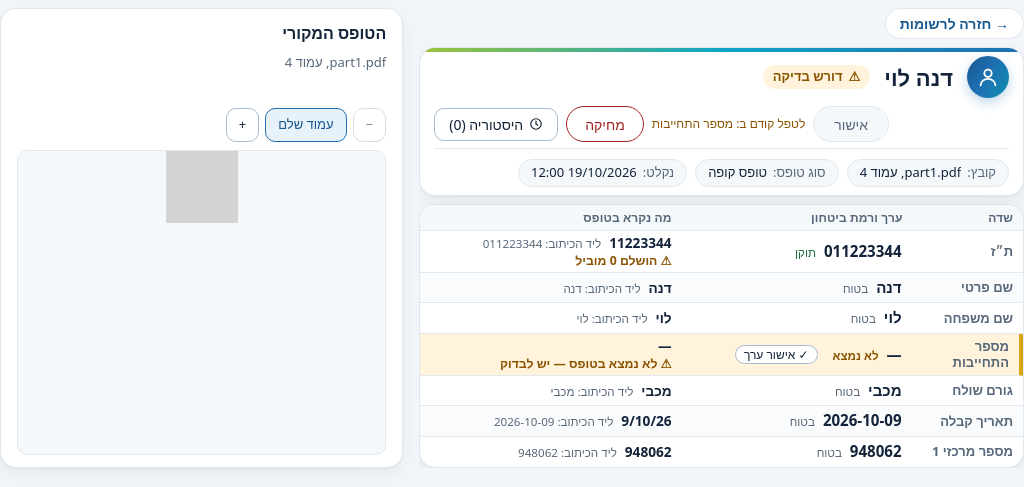
Test: RecordPage › a flagged field is confirmed here too, and the answer replaces the record
This screenshot has width=1024, height=487.
Expected: the heading "דנה לוי" is shown, x1=884 y1=64 x2=953 y2=90
Click the button with aria-label "אישור ערך: מספר התחייבות" at (776, 354), box x1=735 y1=345 x2=818 y2=364
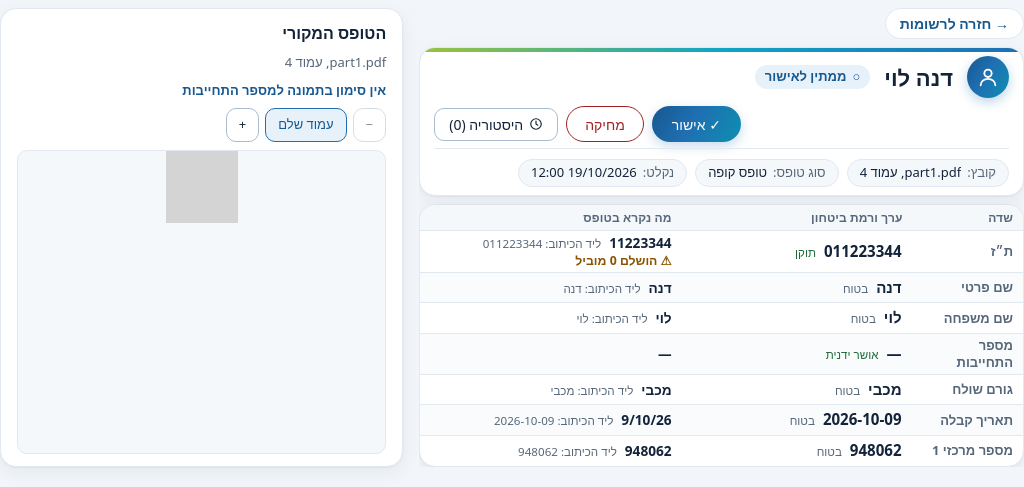
Now the text "אושר ידנית" is shown, box x1=826 y1=347 x2=878 y2=362
